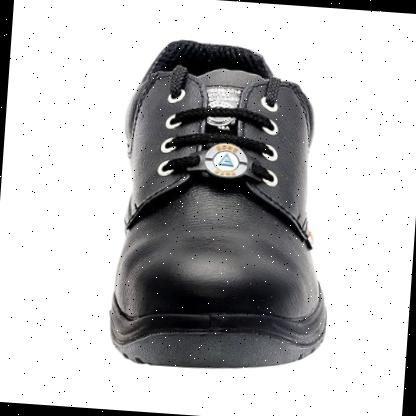bota: (103, 30, 347, 380)
